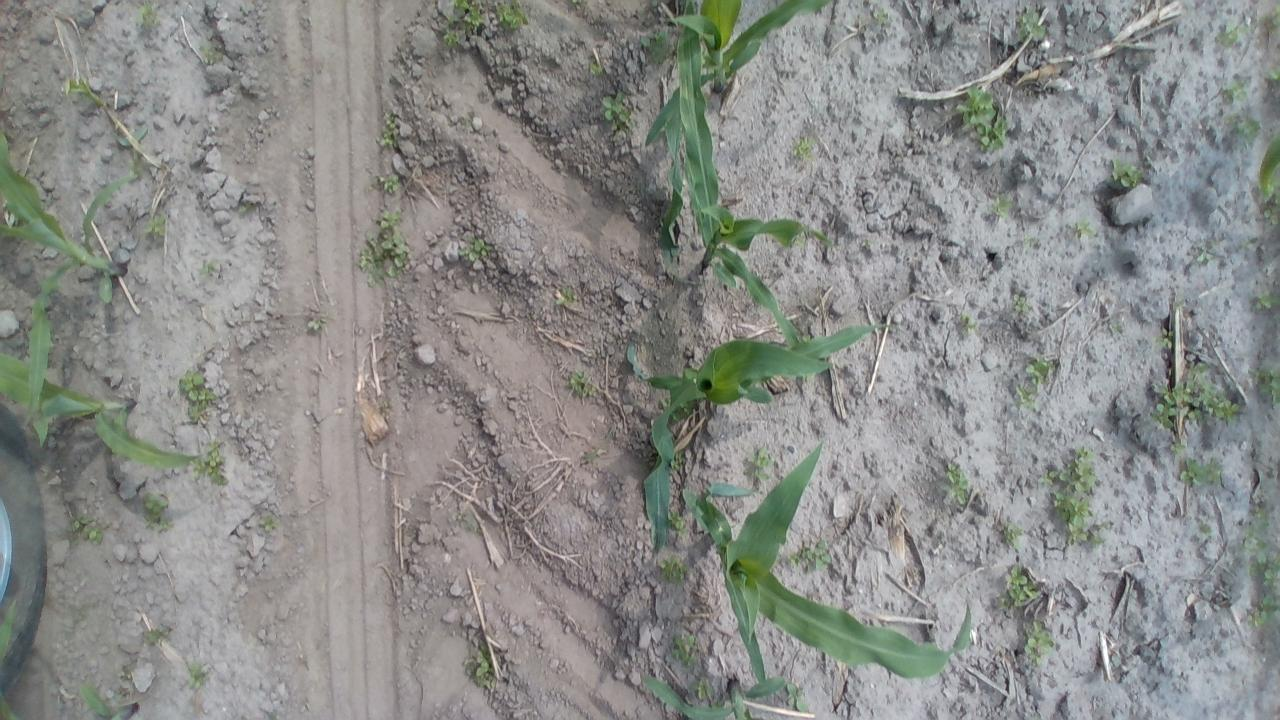Maize: (686, 417, 975, 699), (626, 313, 886, 574), (636, 0, 832, 253), (679, 98, 832, 360), (0, 136, 134, 426), (0, 342, 211, 468), (640, 666, 819, 718), (75, 683, 138, 719)
Weeds: (1042, 445, 1101, 548), (1150, 362, 1242, 423), (1235, 498, 1272, 626), (356, 210, 409, 289), (958, 86, 1011, 154), (1242, 506, 1276, 598), (1242, 534, 1276, 616), (996, 562, 1040, 610), (178, 369, 216, 424), (441, 1, 484, 46), (1020, 618, 1058, 668), (1174, 450, 1224, 487), (60, 76, 114, 108), (194, 445, 229, 487), (788, 539, 832, 572), (602, 92, 638, 132), (0, 600, 22, 658), (1108, 156, 1144, 191), (143, 493, 173, 532), (944, 460, 970, 505), (744, 446, 774, 484), (669, 632, 700, 668), (1016, 8, 1048, 42), (494, 1, 530, 30), (1248, 591, 1276, 627), (641, 30, 671, 63), (472, 644, 494, 688), (1255, 364, 1276, 406), (566, 370, 596, 399), (1234, 112, 1264, 141), (1025, 354, 1055, 383), (461, 236, 492, 264), (661, 556, 691, 582), (1013, 382, 1039, 411), (74, 519, 104, 544), (1222, 76, 1248, 104), (1218, 22, 1244, 50), (140, 624, 171, 646), (1192, 238, 1216, 266), (144, 212, 168, 238), (988, 194, 1012, 218), (1070, 219, 1096, 241), (186, 661, 206, 689), (135, 4, 160, 26), (380, 119, 398, 149), (198, 42, 222, 64), (1255, 10, 1277, 34), (791, 136, 813, 160), (692, 677, 712, 703), (556, 286, 578, 309), (668, 509, 688, 534), (954, 310, 976, 332), (1106, 316, 1126, 340), (1252, 290, 1276, 310), (1002, 522, 1022, 546), (378, 173, 400, 194), (459, 509, 477, 534), (258, 512, 280, 532), (1259, 200, 1277, 224), (1011, 292, 1031, 312), (308, 314, 327, 333), (872, 8, 892, 26), (1155, 330, 1173, 350), (1021, 232, 1040, 250), (1242, 236, 1262, 253), (236, 199, 256, 216), (200, 259, 218, 276), (673, 400, 692, 416), (589, 59, 603, 76), (660, 396, 674, 410), (570, 0, 588, 10), (1199, 523, 1212, 536)
